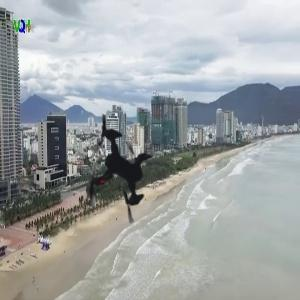drone: (40, 91, 197, 248)
